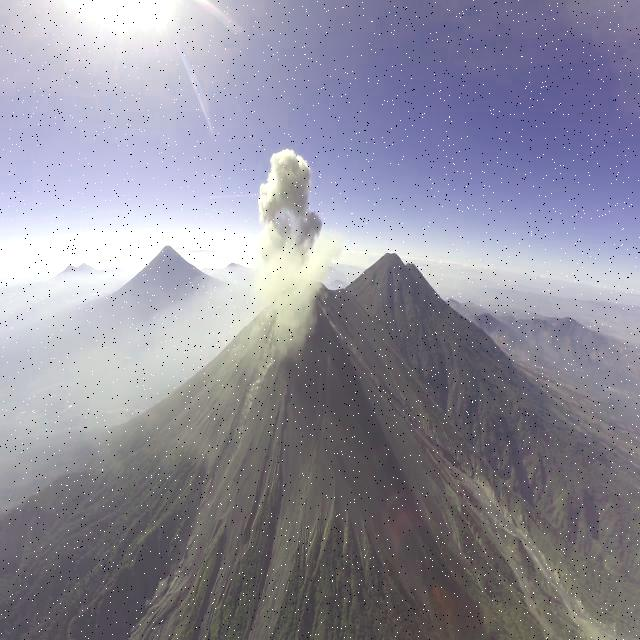Plume: (254, 143, 332, 354)
